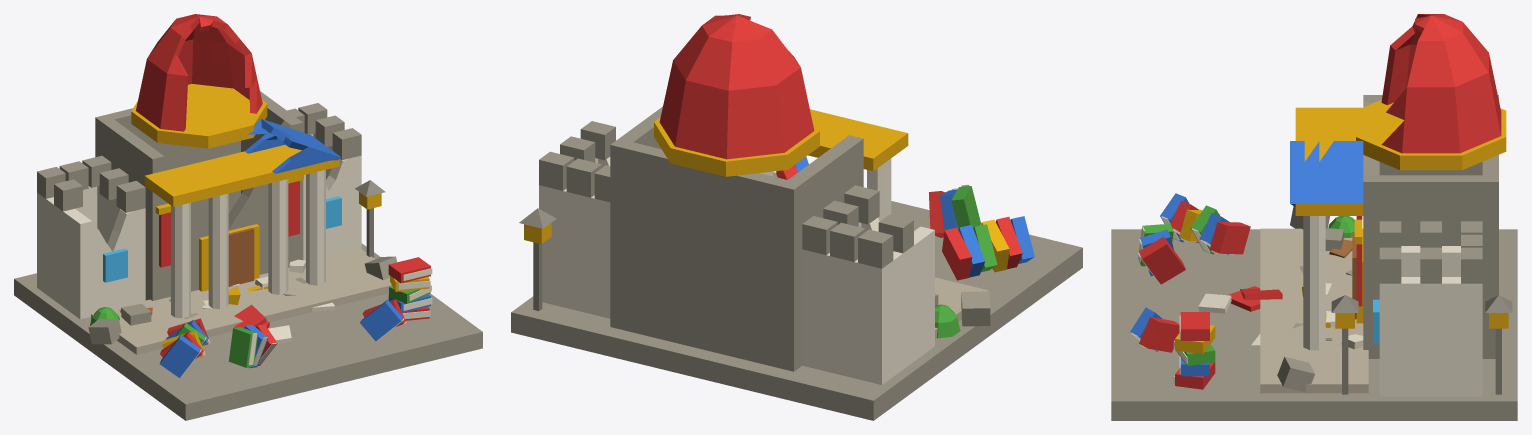
File: library_t3_v3_dmg1.glb
3 renders of one model, left to right at view 1: azimuth 30°, elevation 25°; view 2: azimuth 150°, elevation 25°; view 3: azimuth 270°, elevation 25°, orthographic. The views are drawn at different scales.
Visible parts, largest first — view 1: library_t3_v3_dmg1; view 2: library_t3_v3_dmg1; view 3: library_t3_v3_dmg1.
Part boxes in pixels (<box>): library_t3_v3_dmg1: <box>14,14,482,420</box>; library_t3_v3_dmg1: <box>511,14,1082,420</box>; library_t3_v3_dmg1: <box>1111,14,1517,420</box>.
Size of the model in its own units: 0.777 by 0.65 by 0.75.
Materials: 1 (1 with a texture image).
